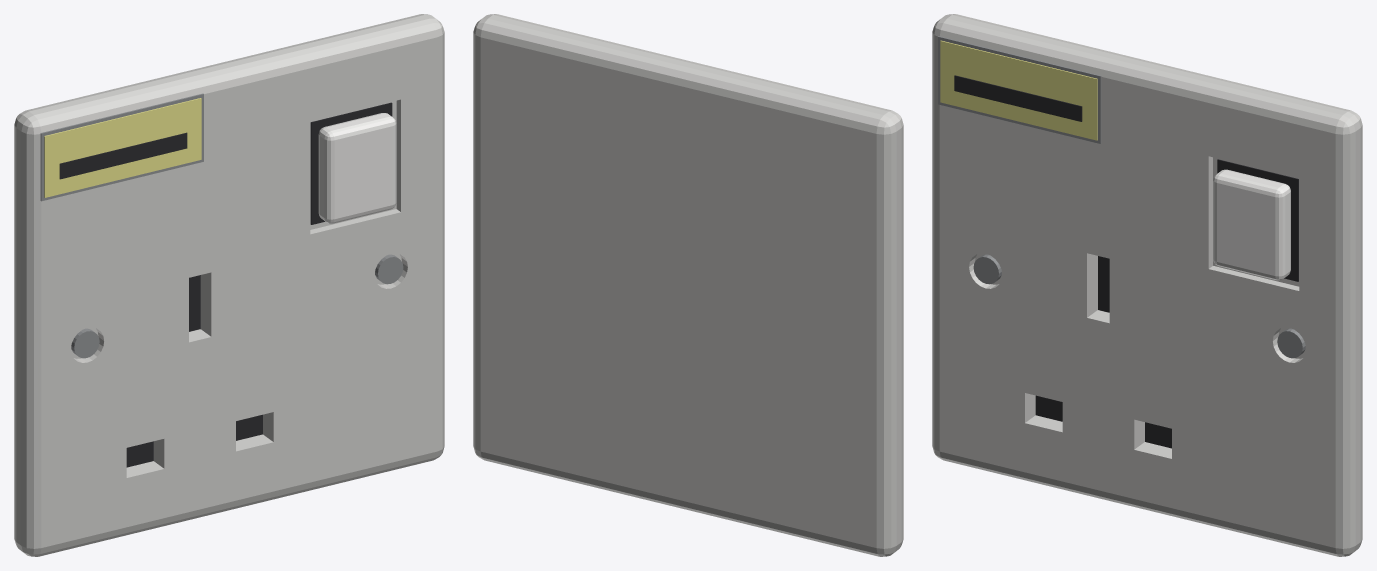
The model's file is Soket.glb.
3 views of the same model, side by side, from view 1: azimuth 30°, elevation 25°; view 2: azimuth 150°, elevation 25°; view 3: azimuth 330°, elevation 25° (orthographic).
Visible parts, largest first — view 1: Soket; view 2: Soket; view 3: Soket.
Part boxes in pixels (<box>): Soket: <box>14,14,444,556</box>; Soket: <box>473,14,903,556</box>; Soket: <box>932,14,1362,556</box>.
Size of the model in its own units: 0.08 by 0.08 by 0.00912.
